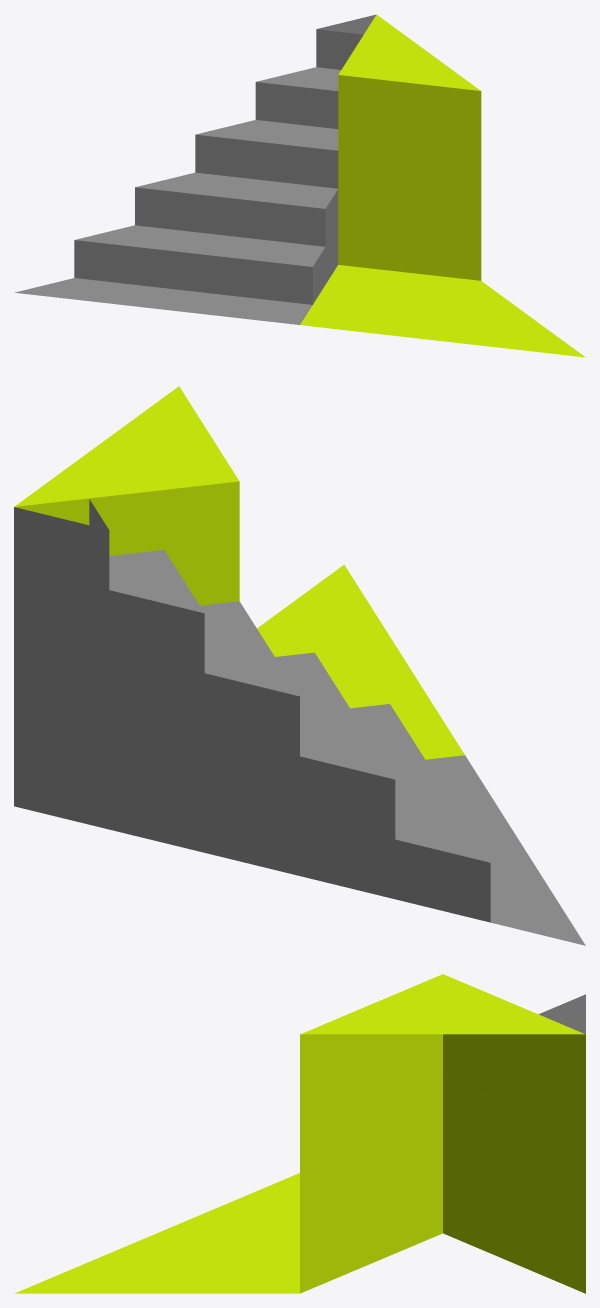
The picture shows the model from 3 angles, top to bottom: view 1: azimuth 30°, elevation 25°; view 2: azimuth 150°, elevation 25°; view 3: azimuth 270°, elevation 25°; orthographic projection. The views are drawn at different scales.
Visible parts, largest first — view 1: T_s4_0_0; view 2: T_s4_0_0; view 3: T_s4_0_0.
Boxes of the visible parts, bbox=[...] form: T_s4_0_0: bbox=[15, 14, 585, 357]; T_s4_0_0: bbox=[14, 386, 585, 945]; T_s4_0_0: bbox=[14, 974, 585, 1293].
Bounding box in the file's own units: 99.79 × 49.97 × 99.81.
